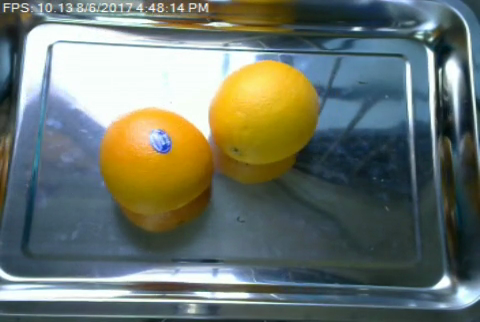Orange: (99, 108, 214, 215), (208, 61, 320, 164)
